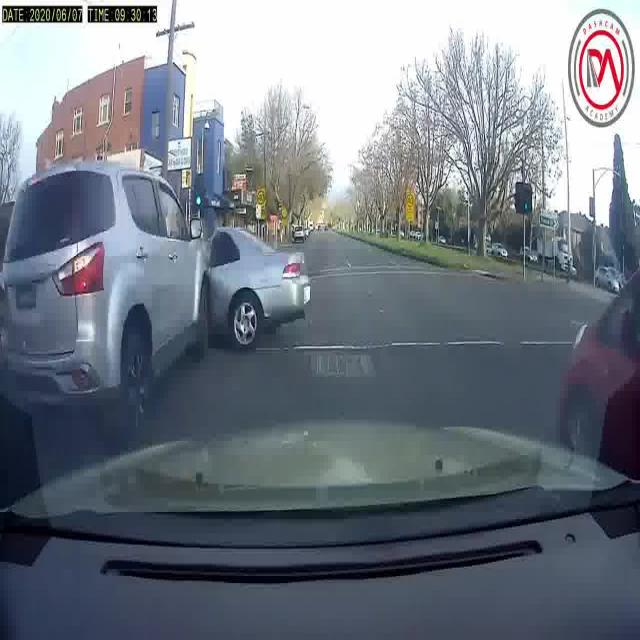Accident: (18, 109, 316, 410)
